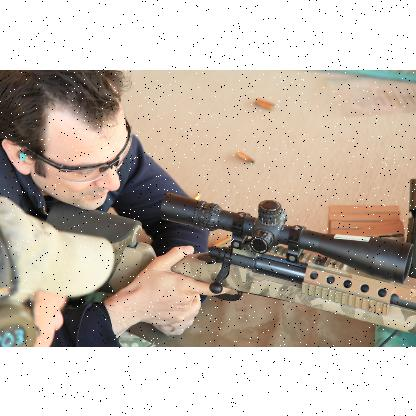gun: (44, 198, 414, 332)
